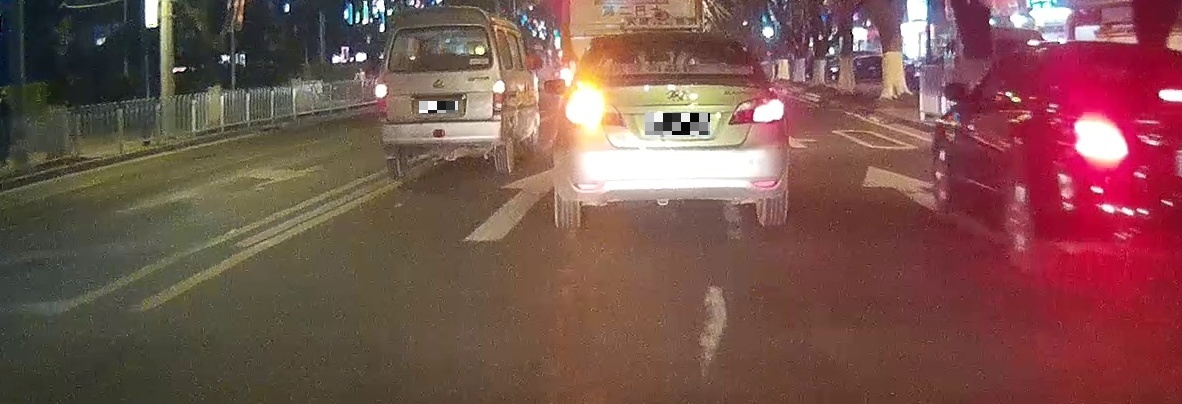L_light: (564, 96, 625, 127), (373, 82, 389, 118)
R_light: (727, 96, 786, 124), (492, 79, 506, 112)
T_light: (659, 38, 689, 45), (425, 26, 447, 32)
night-left: (552, 27, 789, 230)
night-no: (372, 6, 509, 174)
plate_1: (419, 101, 458, 113)
plate_2: (645, 113, 710, 135)
